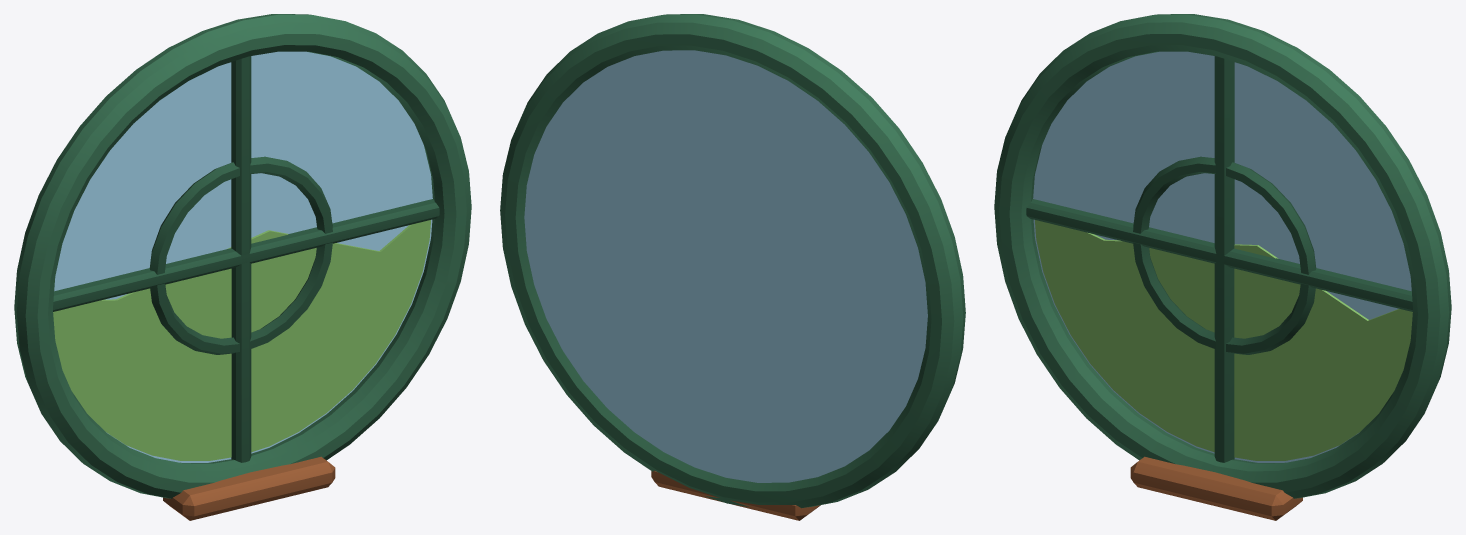
The model's file is janela-redonda-classico.glb.
3 renders of one model, left to right at view 1: azimuth 30°, elevation 25°; view 2: azimuth 150°, elevation 25°; view 3: azimuth 330°, elevation 25°, orthographic.
Parts seen in each view (by area): view 1: moldura, placa, placa.001; view 2: placa, moldura; view 3: moldura, placa, placa.001.
Boxes of the visible parts, left/top/right/bottom form: moldura: left=14, top=14, right=471, bottom=520; placa: left=54, top=51, right=432, bottom=462; placa.001: left=53, top=220, right=430, bottom=460; placa: left=524, top=50, right=927, bottom=482; moldura: left=500, top=14, right=965, bottom=520; moldura: left=994, top=14, right=1451, bottom=520; placa: left=1033, top=51, right=1411, bottom=462; placa.001: left=1035, top=220, right=1412, bottom=460.
Bounding box in the file's own units: 1.48 × 1.48 × 0.1673.
